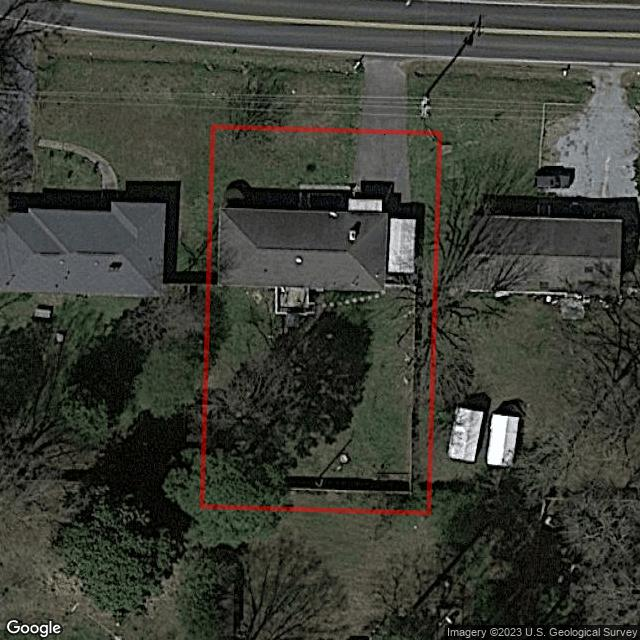Driveway: (355, 135, 409, 201)
Extra Driveway: (360, 59, 406, 129)
Extra Lawn: (215, 48, 362, 127), (410, 61, 443, 127)
House: (220, 206, 387, 294)
